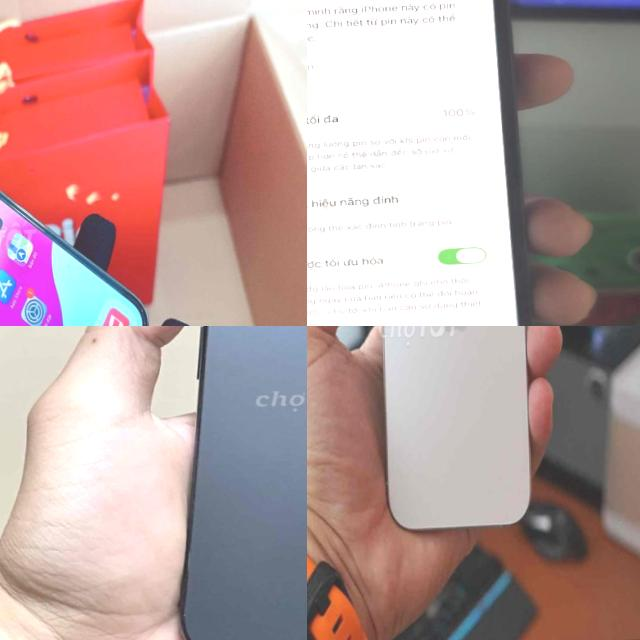gen_12_13: (307, 0, 532, 326), (0, 98, 157, 326)
gen_15: (122, 326, 307, 640), (360, 326, 541, 550)
